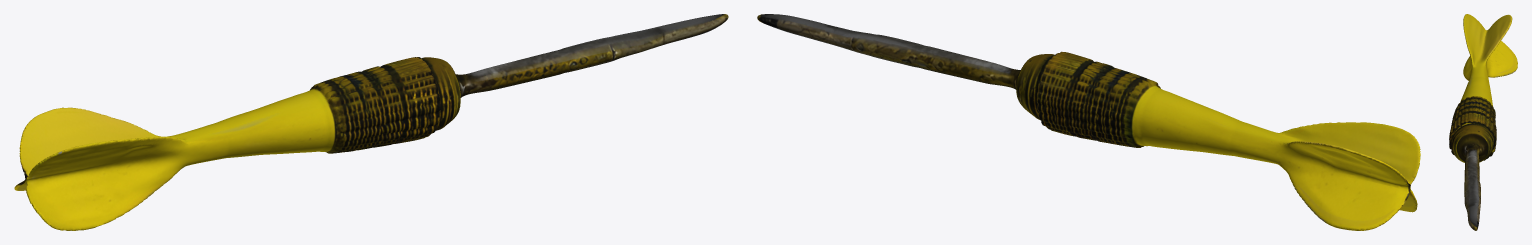
3 renders of one model, left to right at view 1: azimuth 30°, elevation 25°; view 2: azimuth 150°, elevation 25°; view 3: azimuth 270°, elevation 25°, orthographic. The views are drawn at different scales.
Visible parts, largest first — view 1: tripo_node_d70e6da3-4ab0-48b0-b2ff-1b13e165b473; view 2: tripo_node_d70e6da3-4ab0-48b0-b2ff-1b13e165b473; view 3: tripo_node_d70e6da3-4ab0-48b0-b2ff-1b13e165b473.
Part boxes in pixels (box(x1,y1,x2,y2)): tripo_node_d70e6da3-4ab0-48b0-b2ff-1b13e165b473: box(14, 14, 728, 230); tripo_node_d70e6da3-4ab0-48b0-b2ff-1b13e165b473: box(757, 14, 1420, 230); tripo_node_d70e6da3-4ab0-48b0-b2ff-1b13e165b473: box(1449, 14, 1517, 230).
Bounding box in the file's own units: 1 × 0.1228 × 0.1455.
1 material, 1 textured.
